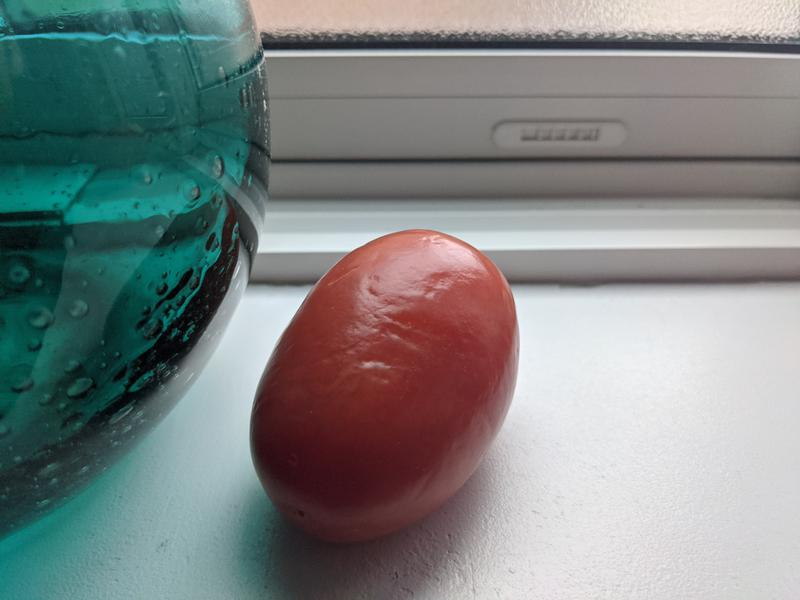tomato: (250, 229, 520, 542)
